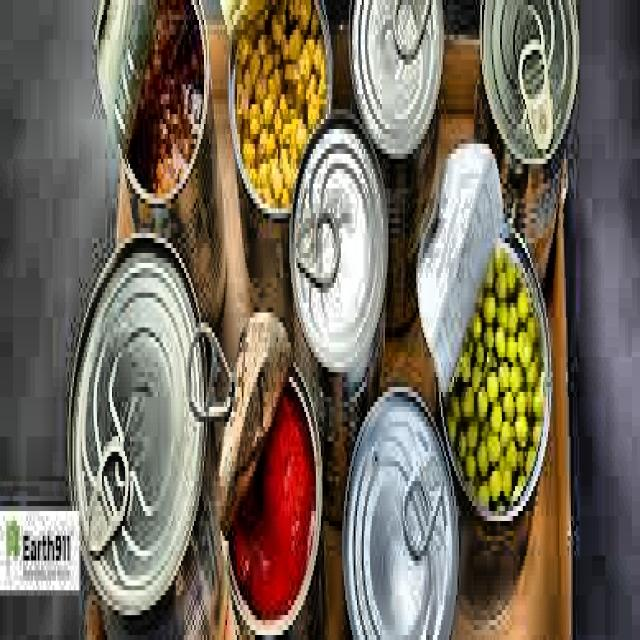can: (408, 135, 554, 627), (66, 223, 230, 640), (186, 308, 329, 640), (92, 0, 230, 333), (290, 105, 391, 531), (220, 0, 334, 308), (472, 0, 581, 317), (344, 0, 446, 332), (337, 372, 461, 640)
